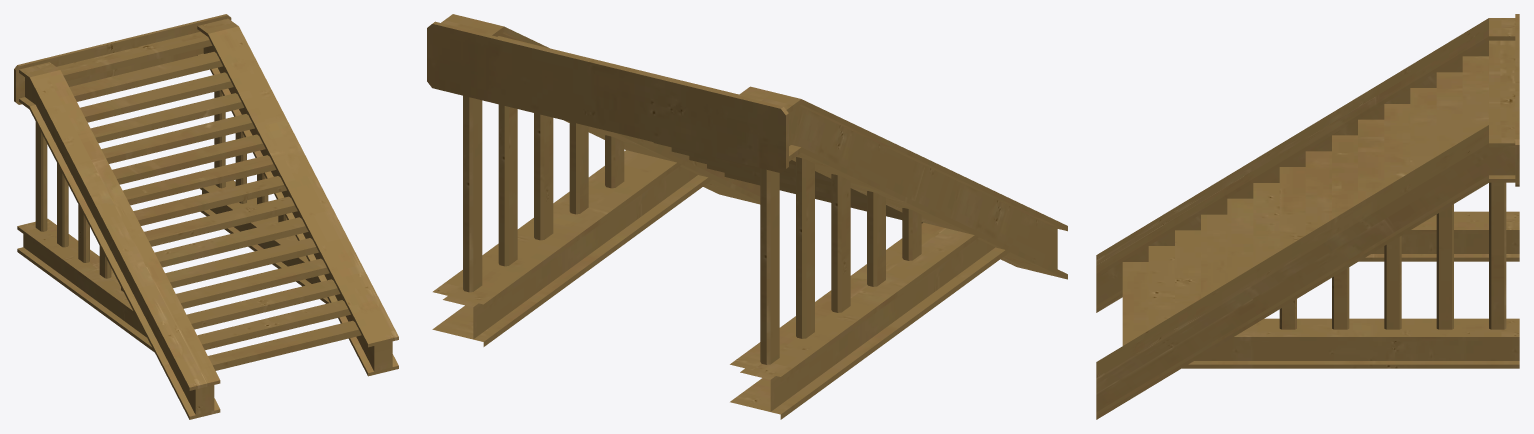
3 views of the same model, side by side, from view 1: azimuth 30°, elevation 25°; view 2: azimuth 150°, elevation 25°; view 3: azimuth 270°, elevation 25° (orthographic). The views are drawn at different scales.
Visible parts, largest first — view 1: body0_model0_lod0_mesh0; view 2: body0_model0_lod0_mesh0; view 3: body0_model0_lod0_mesh0.
Boxes of the visible parts, x1,y1,x2,y2 form: body0_model0_lod0_mesh0: [14, 14, 398, 419]; body0_model0_lod0_mesh0: [427, 14, 1067, 419]; body0_model0_lod0_mesh0: [1096, 14, 1519, 419].
Bounding box in the file's own units: 140 × 142 × 194.
Materials: 3 (2 with a texture image).
